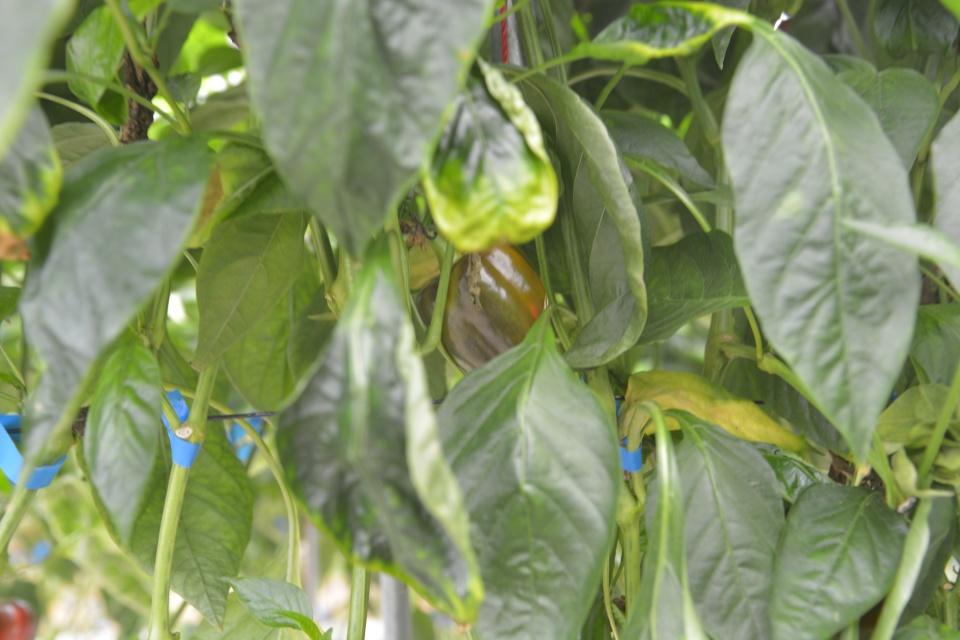fruit: (414, 237, 546, 376), (2, 600, 36, 640)
